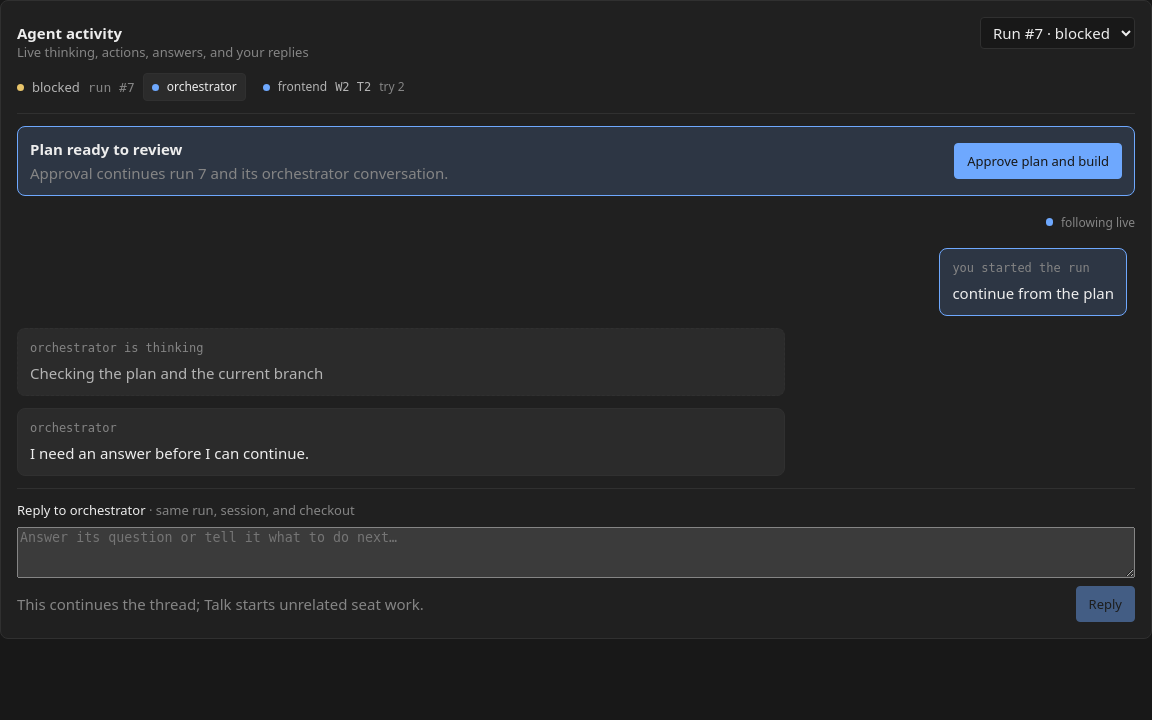
Test case: approves the plan by continuing the selected run rather than starting another
Click the button "Approve plan and build". click: point(1038, 161)
box: [954, 143, 1122, 179]
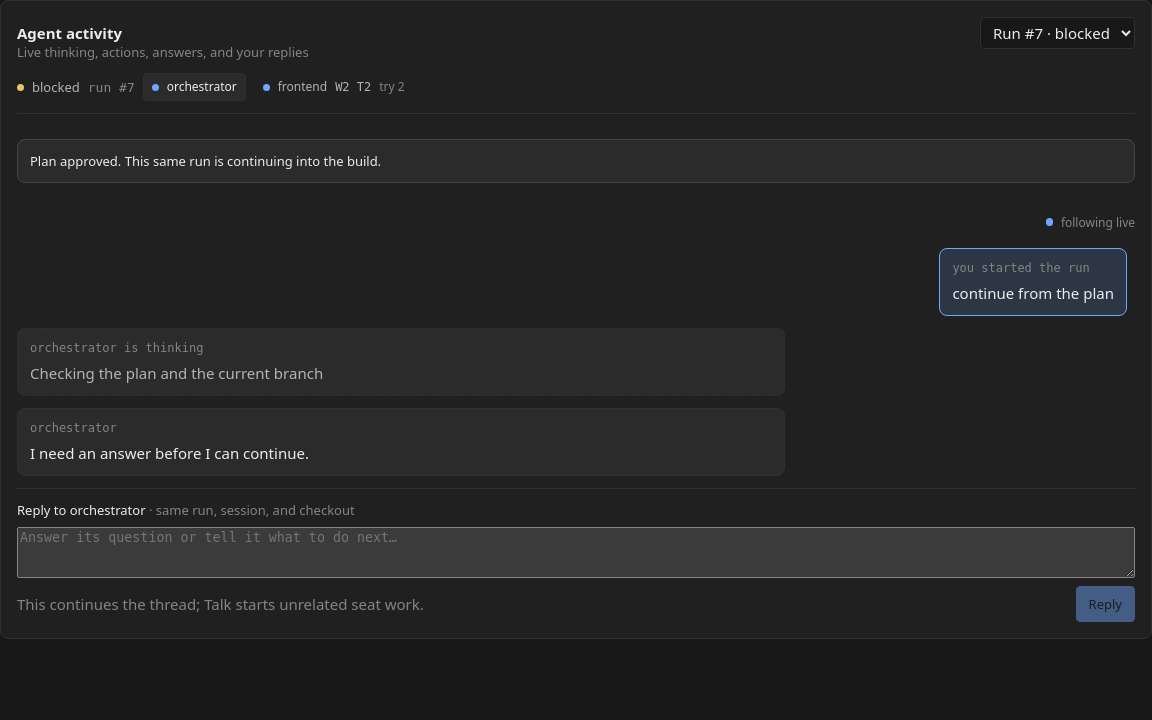
Expected: the text "Plan approved. This same run is continuing into the build." is shown, [17, 139, 1135, 183]
